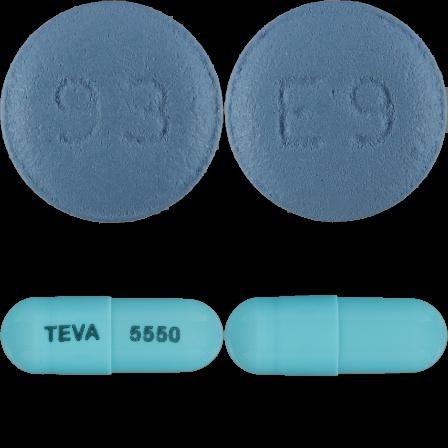0093-5539: (0, 0, 224, 224)
